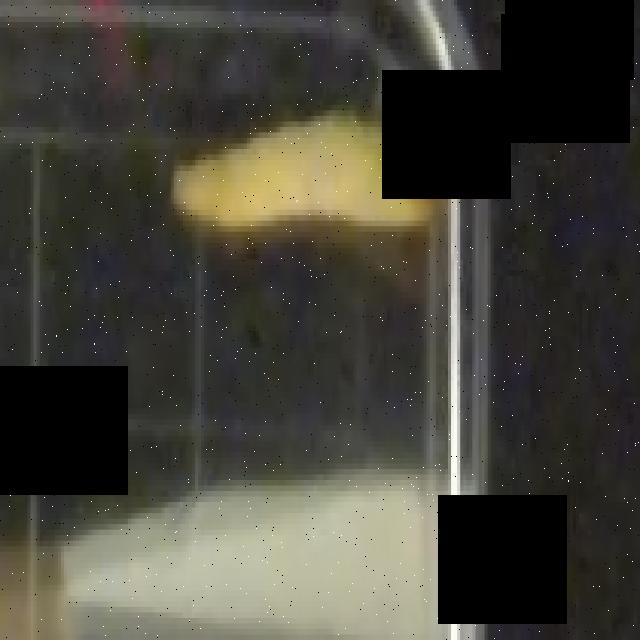larva: (160, 91, 450, 259)
